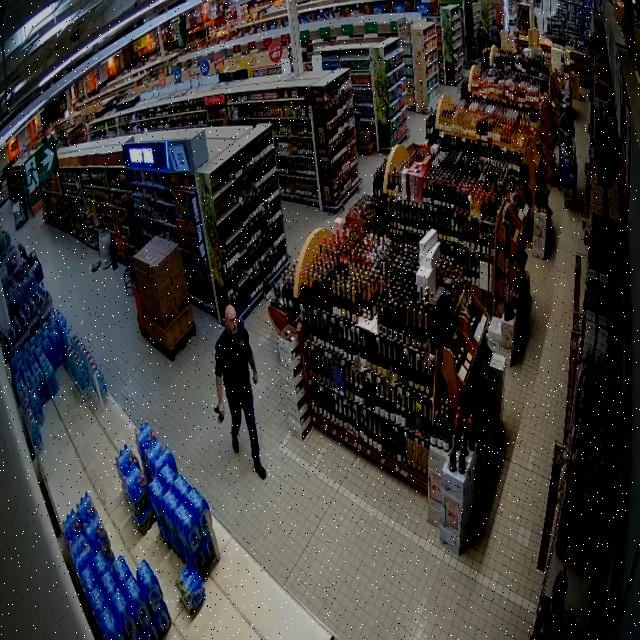article: (217, 412, 224, 424), (214, 403, 219, 413)
hands: (219, 402, 225, 415), (253, 371, 258, 384), (565, 131, 570, 138)
person: (216, 305, 266, 479), (129, 213, 148, 250), (560, 105, 574, 141)
